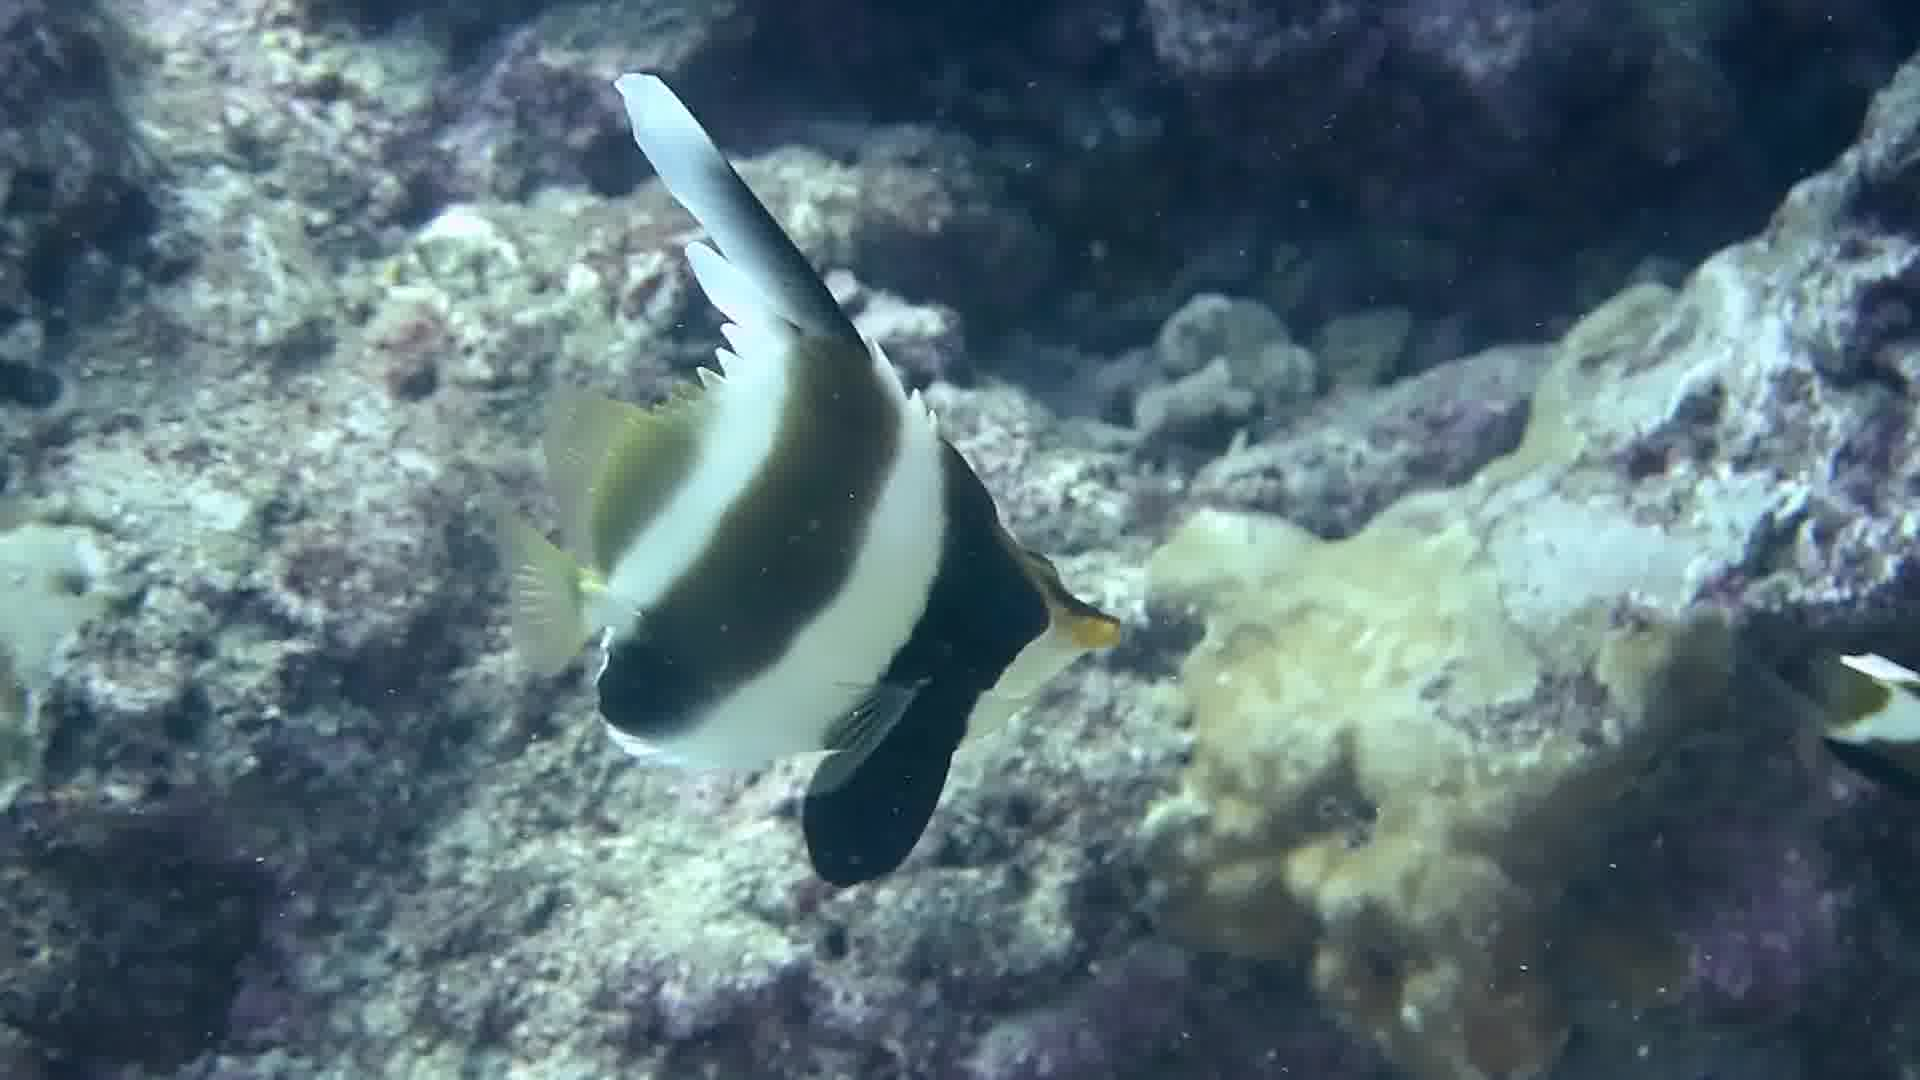Heniochus chrysostomus: (444, 26, 1174, 993)
